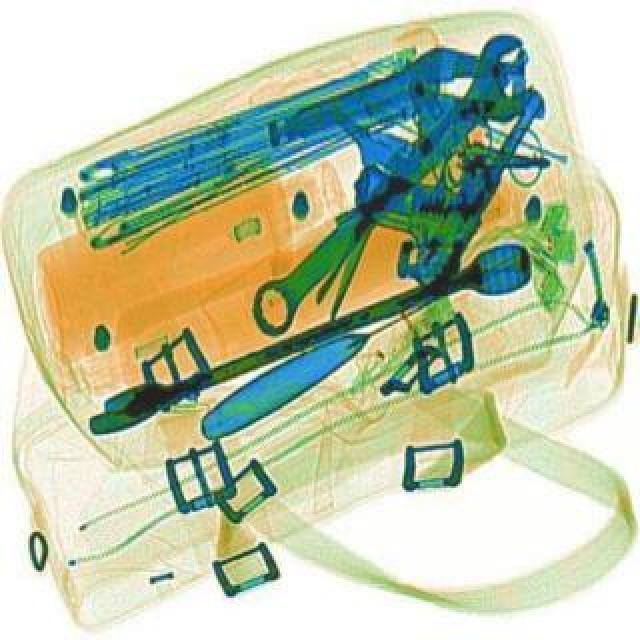gun: (326, 44, 542, 288)
knife: (190, 228, 534, 440)
scissors: (226, 24, 562, 348)
